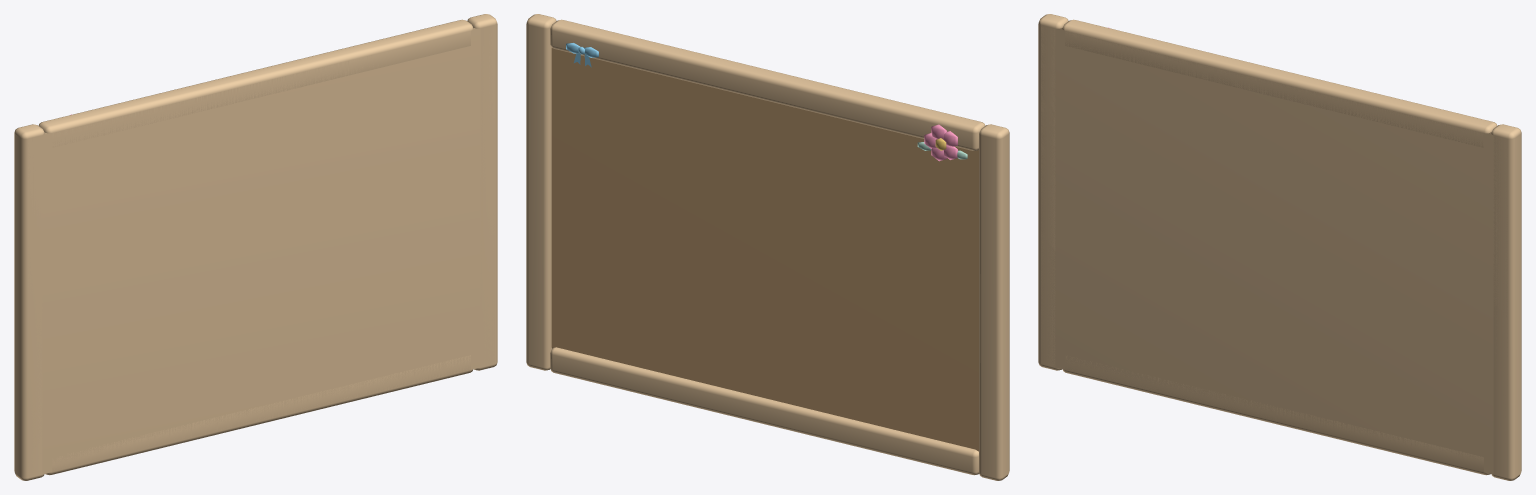
The model's file is photo_board.glb.
3 renders of one model, left to right at view 1: azimuth 30°, elevation 25°; view 2: azimuth 150°, elevation 25°; view 3: azimuth 330°, elevation 25°, orthographic.
Visible parts, largest first — view 1: BoardBack, FrameTop, FrameLeft, FrameBottom, FrameRight; view 2: Cork, FrameTop, FrameBottom, FrameLeft, FrameRight; view 3: BoardBack, FrameTop, FrameRight, FrameBottom, FrameLeft.
Boxes of the visible parts, x1,y1,x2,y2 form: BoardBack: (28,28,494,477); FrameTop: (38,19,473,147); FrameLeft: (14,124,44,480); FrameBottom: (45,355,473,475); FrameRight: (467,14,497,370); Cork: (551,48,978,451); FrameTop: (550,19,985,150); FrameBottom: (550,347,979,475); FrameLeft: (979,124,1009,480); FrameRight: (526,14,556,370); BoardBack: (1041,25,1507,474); FrameTop: (1062,19,1497,147); FrameRight: (1491,124,1521,480); FrameBottom: (1062,356,1490,475); FrameLeft: (1038,14,1068,370).
Bounding box in the file's own units: 1 × 0.7 × 0.0533.
Materials: 1 (1 with a texture image).
